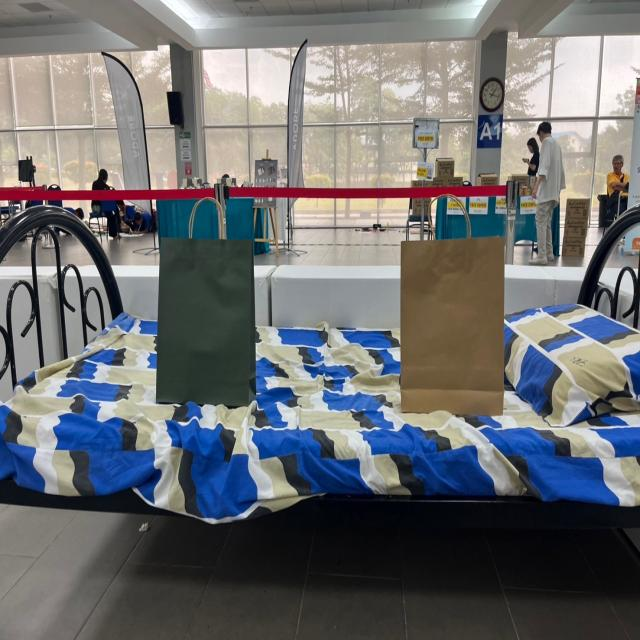bag: (399, 187, 503, 402), (160, 180, 252, 403)
